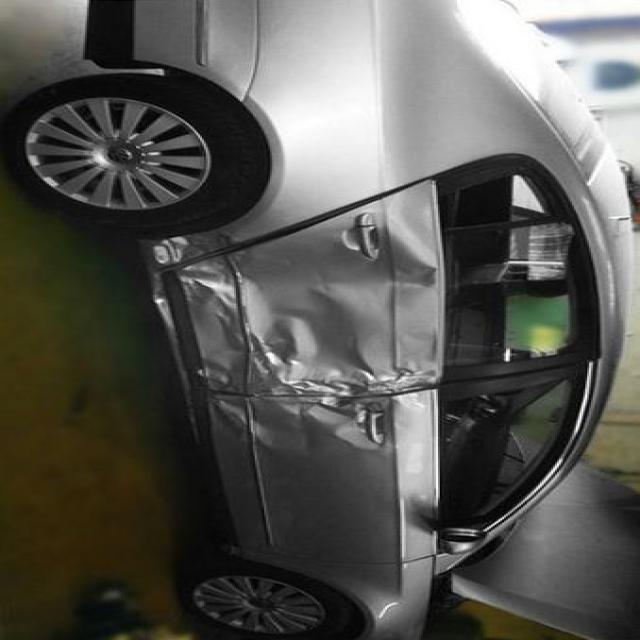dent: (146, 254, 446, 493)
